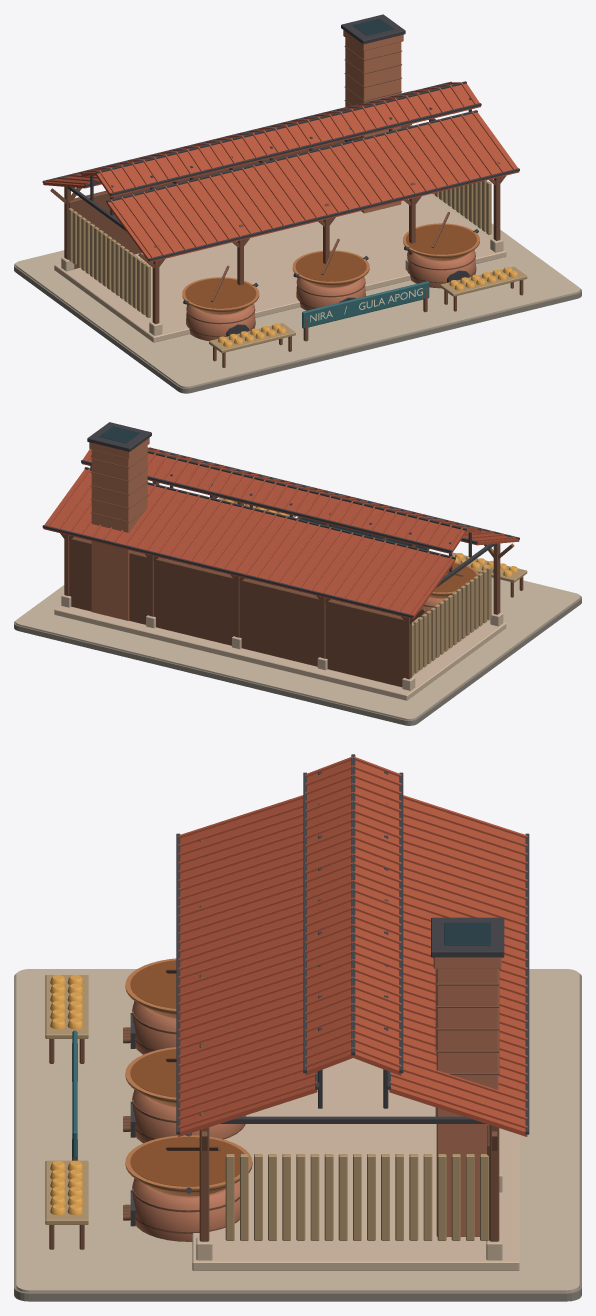
3 views of the same model, one above another, from view 1: azimuth 30°, elevation 25°; view 2: azimuth 150°, elevation 25°; view 3: azimuth 270°, elevation 25° (orthographic). The views are drawn at different scales.
Visible parts, largest first — view 1: Smoke Monitor Roof, Cookhouse Frame, Nira Delivery Yard, Firebrick Hearths, Cooling and Casting Tables; view 2: Smoke Monitor Roof, Cookhouse Frame, Nira Delivery Yard, Firebrick Hearths, Cooling and Casting Tables; view 3: Smoke Monitor Roof, Nira Delivery Yard, Cookhouse Frame, Firebrick Hearths, Cooling and Casting Tables.
Part boxes in pixels (box(x1,y1,x2,y2)): Smoke Monitor Roof: box(42, 81, 519, 262); Cookhouse Frame: box(50, 118, 506, 342); Nira Delivery Yard: box(14, 193, 581, 393); Firebrick Hearths: box(182, 14, 479, 340); Cooling and Casting Tables: box(209, 266, 527, 367); Smoke Monitor Roof: box(42, 447, 519, 619); Cookhouse Frame: box(54, 481, 514, 700); Nira Delivery Yard: box(14, 518, 581, 725); Firebrick Hearths: box(87, 422, 478, 620); Cooling and Casting Tables: box(218, 498, 527, 597); Smoke Monitor Roof: box(176, 754, 529, 1136); Nira Delivery Yard: box(14, 969, 581, 1301); Cookhouse Frame: box(192, 839, 519, 1270); Firebrick Hearths: box(123, 917, 504, 1241); Cooling and Casting Tables: box(45, 975, 88, 1249).
Bounding box in the file's own units: 20.2 × 8.99 × 15.
